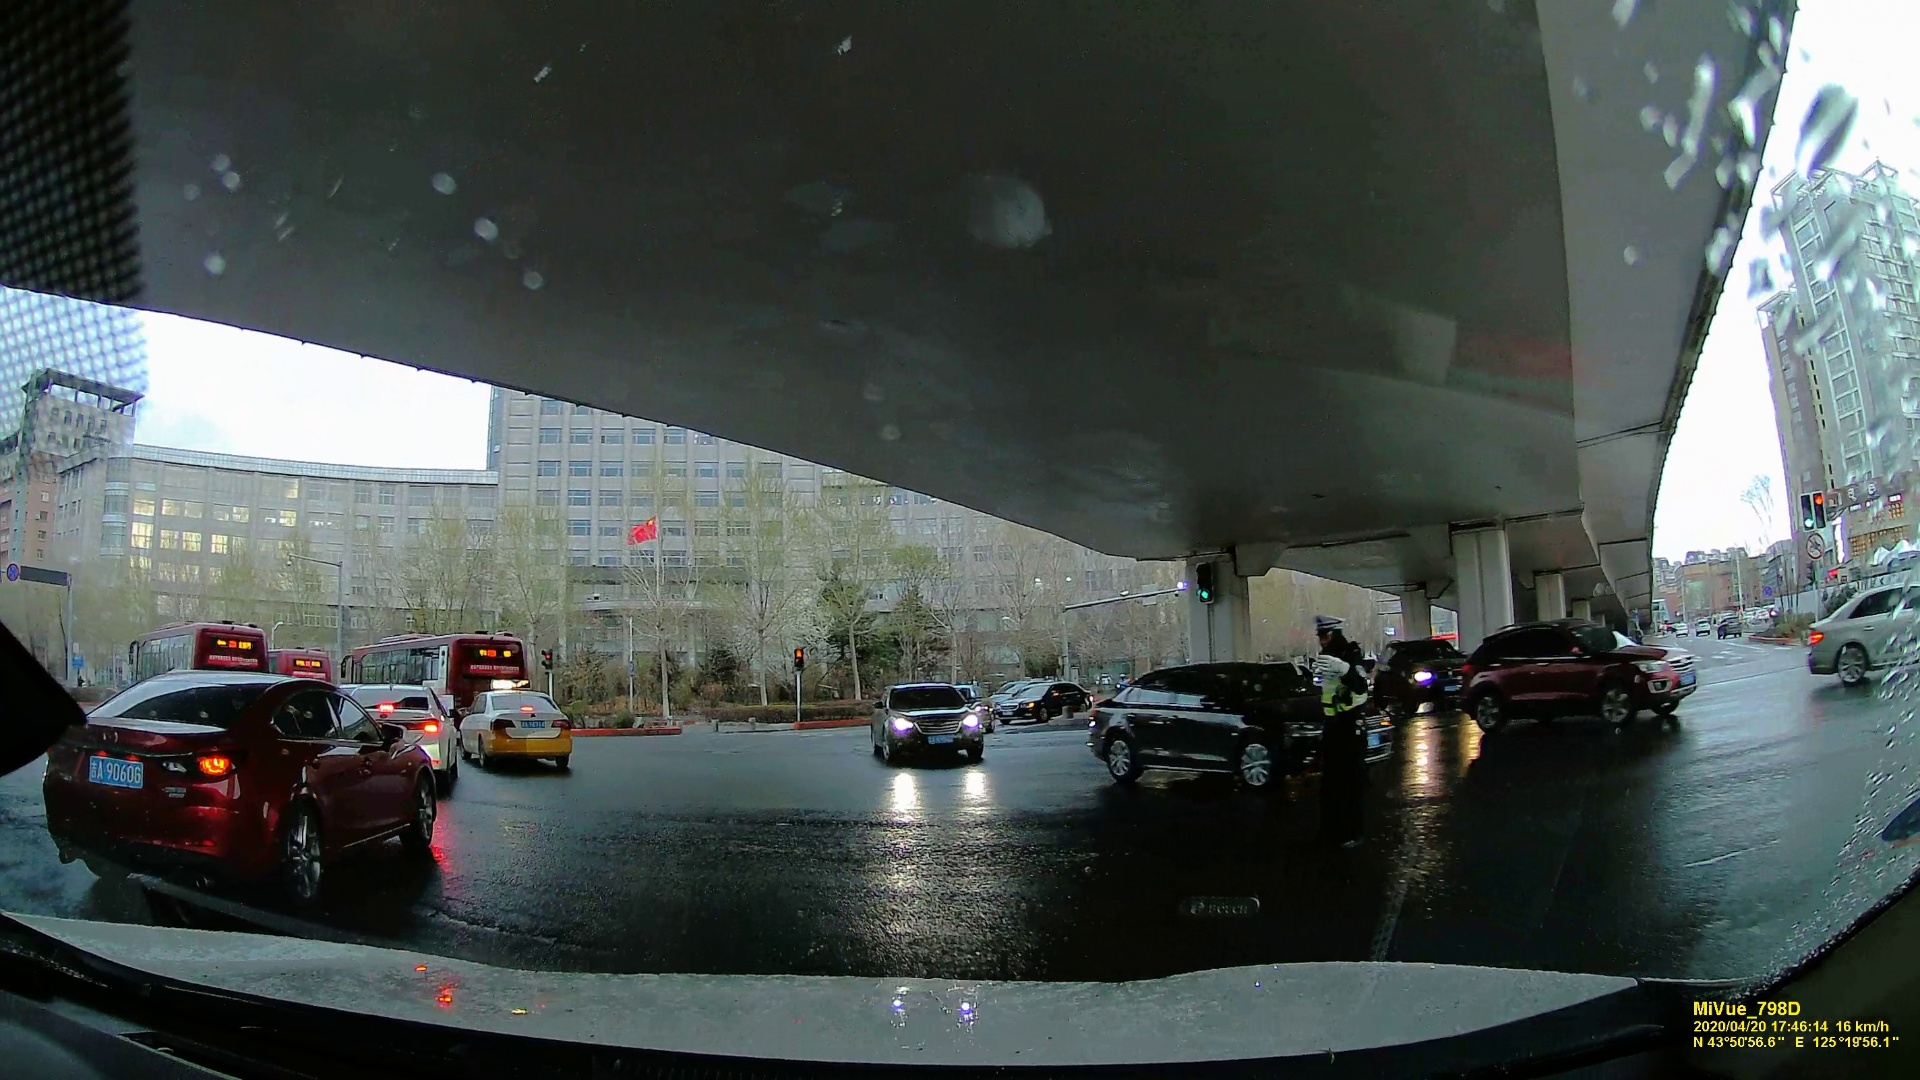bus: (343, 631, 527, 699), (127, 619, 266, 677)
person: (1307, 618, 1371, 824)
traffic_sign: (1805, 492, 1830, 525), (792, 649, 805, 673)
vehicle: (61, 655, 450, 912), (1084, 646, 1398, 795), (1458, 615, 1711, 735), (862, 680, 987, 766), (1811, 587, 1920, 683), (452, 689, 570, 771), (1372, 639, 1473, 707), (991, 678, 1092, 728)
